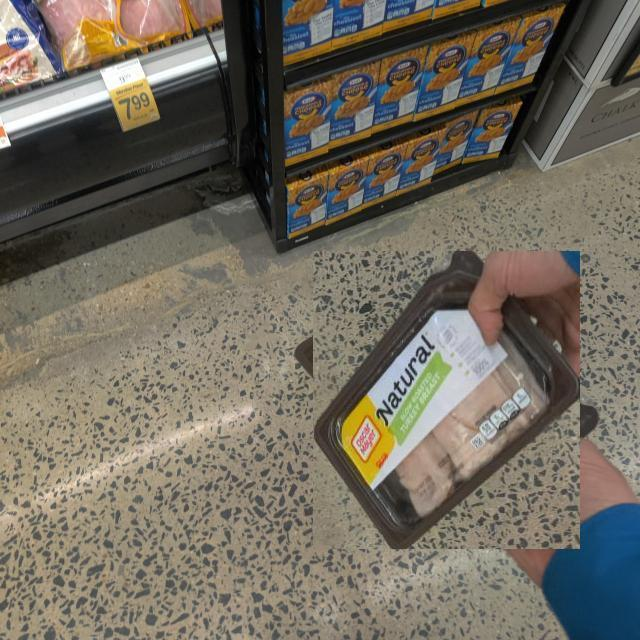Meat: (313, 251, 580, 549)
